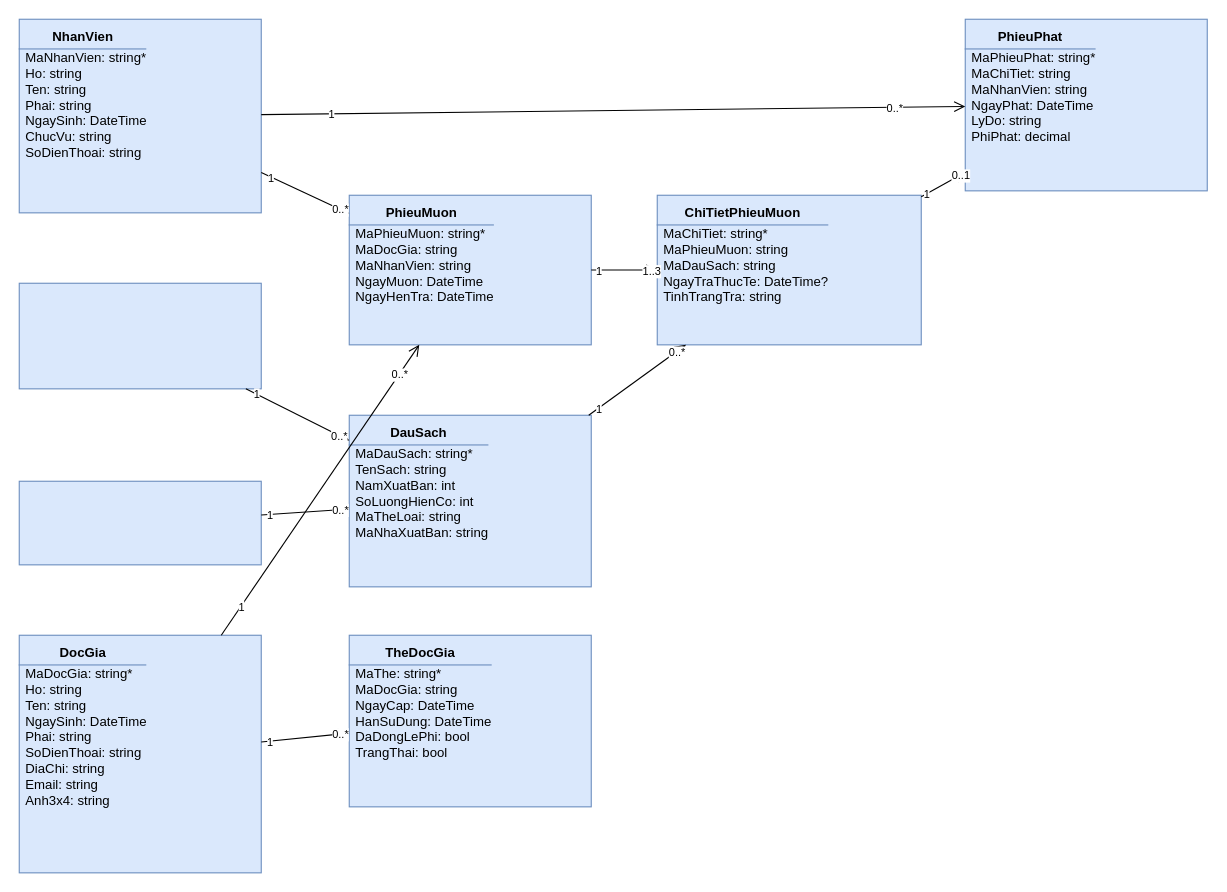
Image size: 1227x892. Some labels were removed from this diagram. Each missing label, with the box of its shape:
NhaXuatBan MaNhaXuatBan: string* DiaChi: string SoDienThoai: string: (18, 282, 261, 389)
TheLoai MaTheLoai: string* TenTheLoai: string: (18, 480, 261, 565)
